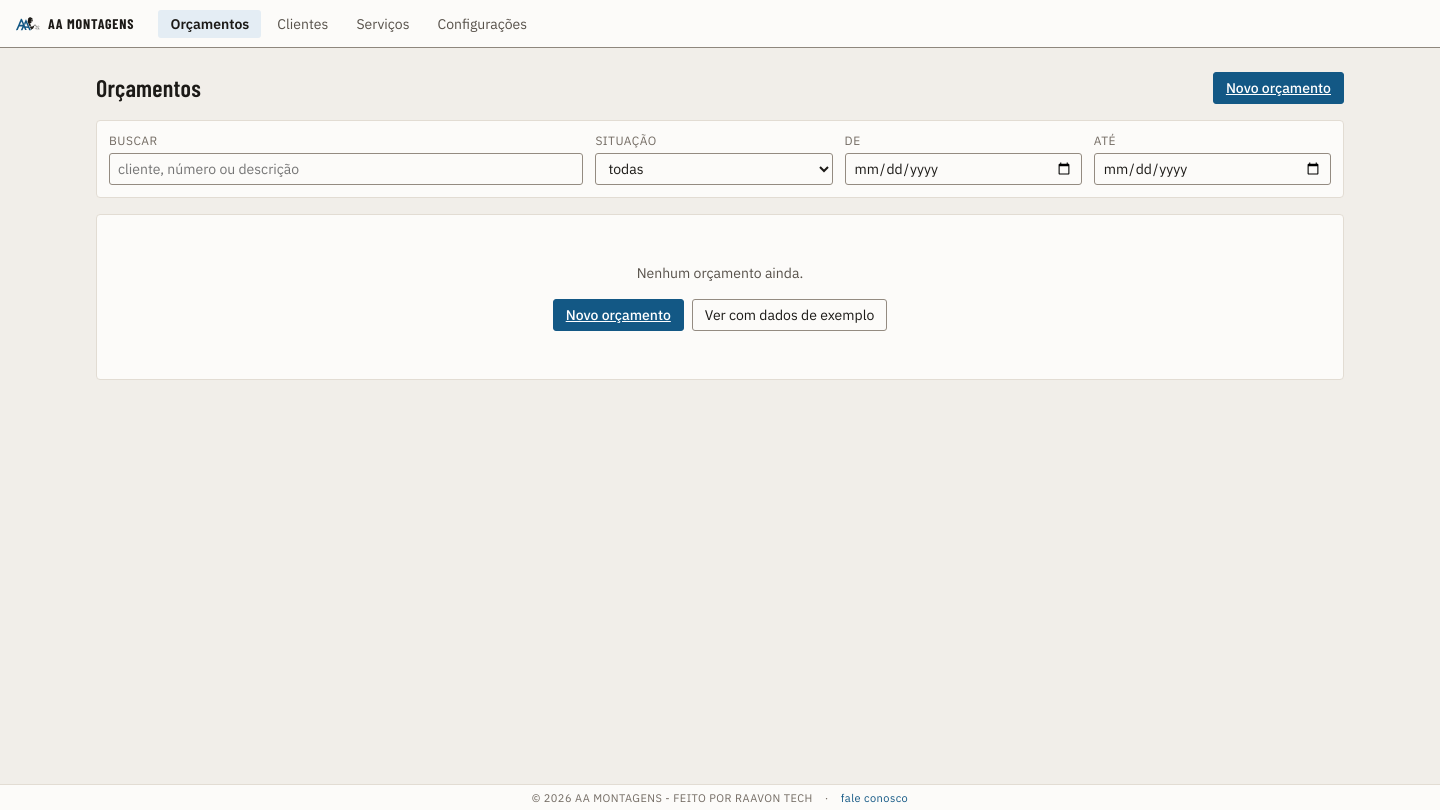
Test case: dados de exemplo › o botão do estado vazio importa os dois orçamentos
This screenshot has width=1440, height=810.
What coordinates should you click on to do the following:
click the button "Ver com dados de exemplo"
I would click on:
 (790, 315)
Its box is [692,299,887,331].
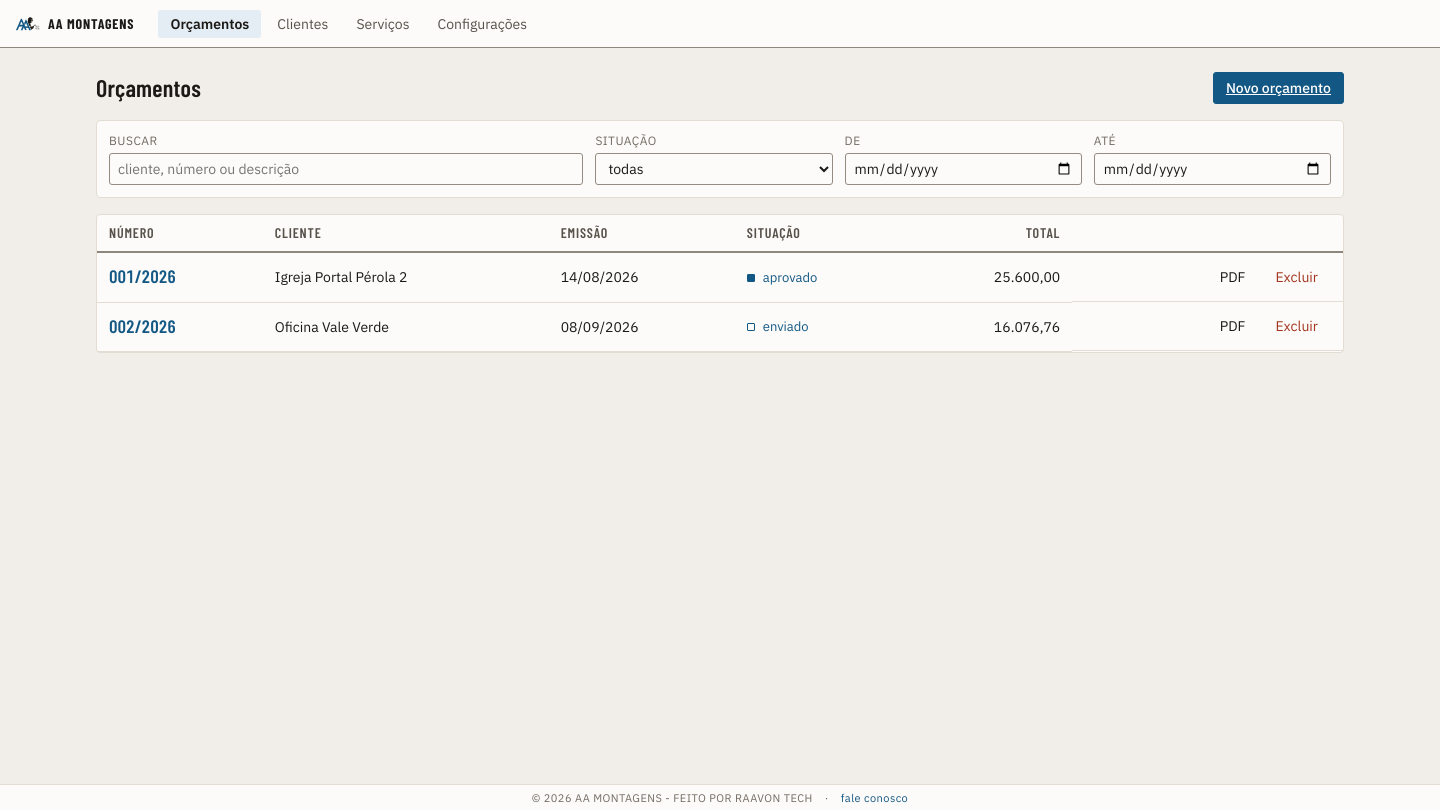
expect the text "Igreja Portal Pérola 2" is shown: met, box [263,253,549,302]
